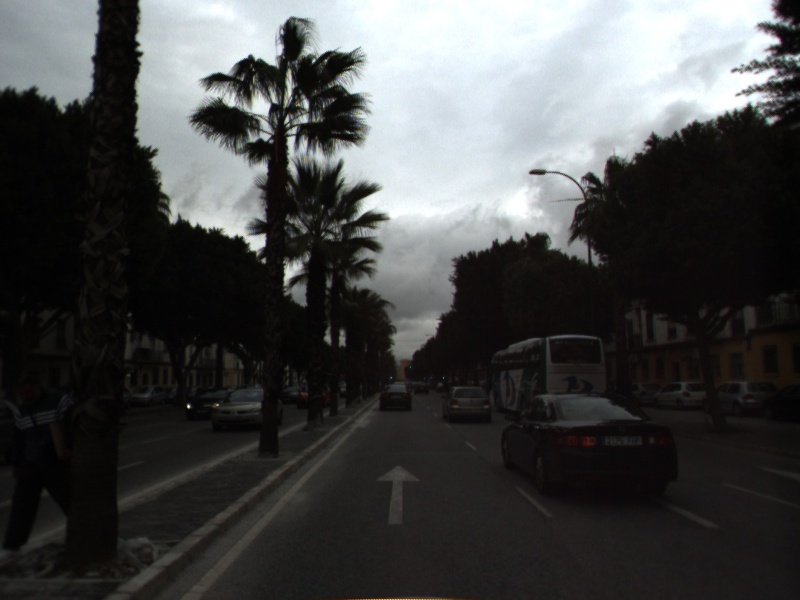STRAIGHT: (373, 462, 423, 526)
